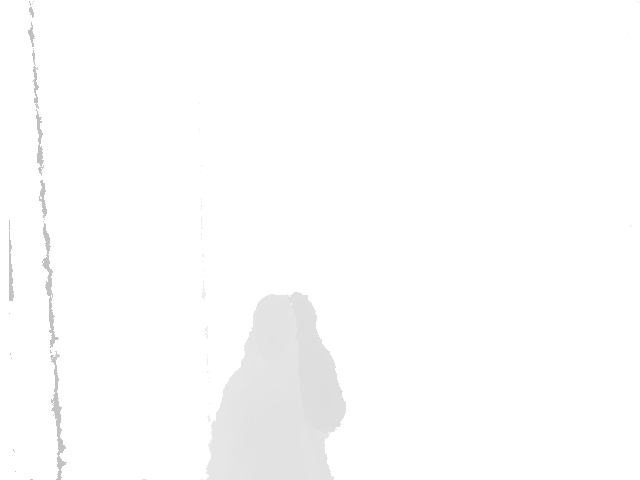head: (240, 291, 302, 363)
person: (205, 289, 344, 480)
